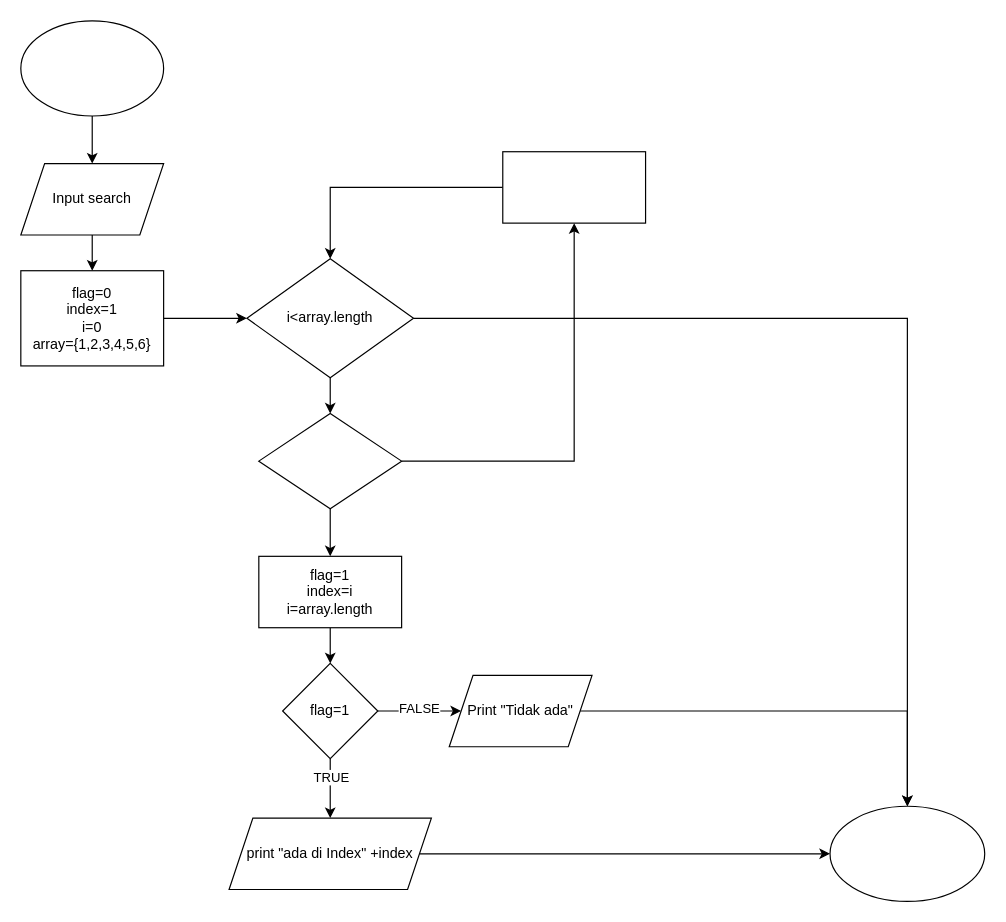
Image size: 1006x922. Some labels were removed from this diagram. The centre of each missing label's shape, as x and y in pixels:
array[i]=search: (x=330, y=460)
End: (x=907, y=853)
i++: (x=574, y=187)
Start: (x=92, y=68)
